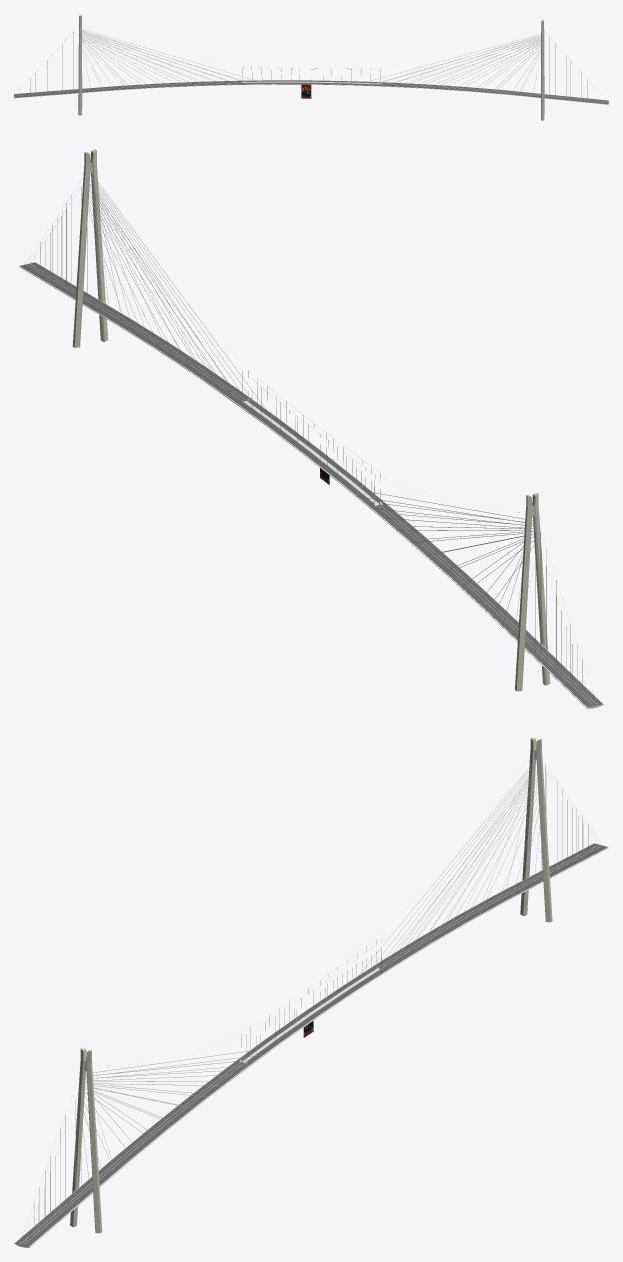
File: yavuz-selim-bridge.glb
3 renders of one model, top to bottom at view 1: azimuth 30°, elevation 25°; view 2: azimuth 150°, elevation 25°; view 3: azimuth 270°, elevation 25°, orthographic. The views are drawn at different scales.
Parts seen in each view (by area): view 1: mesh_1_ROOT__Component_127826_Layer0_217_218_206_ds, mesh_3_ROOT__Component_127826_Layer0_145_146_145_ds, mesh_4_ROOT__Component_127826_Layer0_241_241_241_ds, mesh_0_ROOT__Component_127826_Layer0_221_223_210_ds, mesh_5_ROOT__Component_127826_Layer0_245_245_245_ds; view 2: mesh_3_ROOT__Component_127826_Layer0_145_146_145_ds, mesh_1_ROOT__Component_127826_Layer0_217_218_206_ds, mesh_0_ROOT__Component_127826_Layer0_221_223_210_ds, mesh_4_ROOT__Component_127826_Layer0_241_241_241_ds, mesh_5_ROOT__Component_127826_Layer0_245_245_245_ds; view 3: mesh_3_ROOT__Component_127826_Layer0_145_146_145_ds, mesh_1_ROOT__Component_127826_Layer0_217_218_206_ds, mesh_0_ROOT__Component_127826_Layer0_221_223_210_ds, mesh_4_ROOT__Component_127826_Layer0_241_241_241_ds, mesh_5_ROOT__Component_127826_Layer0_245_245_245_ds.
Boxes of the visible parts, box(x1,y1,x2,y2) form: mesh_1_ROOT__Component_127826_Layer0_217_218_206_ds: box(14, 29, 608, 102); mesh_3_ROOT__Component_127826_Layer0_145_146_145_ds: box(14, 80, 608, 104); mesh_4_ROOT__Component_127826_Layer0_241_241_241_ds: box(14, 80, 608, 104); mesh_0_ROOT__Component_127826_Layer0_221_223_210_ds: box(78, 14, 544, 120); mesh_5_ROOT__Component_127826_Layer0_245_245_245_ds: box(15, 77, 608, 102); mesh_3_ROOT__Component_127826_Layer0_145_146_145_ds: box(20, 262, 602, 707); mesh_1_ROOT__Component_127826_Layer0_217_218_206_ds: box(25, 179, 597, 705); mesh_0_ROOT__Component_127826_Layer0_221_223_210_ds: box(72, 149, 550, 691); mesh_4_ROOT__Component_127826_Layer0_241_241_241_ds: box(19, 262, 603, 708); mesh_5_ROOT__Component_127826_Layer0_245_245_245_ds: box(26, 263, 597, 705); mesh_3_ROOT__Component_127826_Layer0_145_146_145_ds: box(15, 843, 607, 1246); mesh_1_ROOT__Component_127826_Layer0_217_218_206_ds: box(19, 764, 603, 1245); mesh_0_ROOT__Component_127826_Layer0_221_223_210_ds: box(70, 738, 552, 1233); mesh_4_ROOT__Component_127826_Layer0_241_241_241_ds: box(14, 843, 608, 1247); mesh_5_ROOT__Component_127826_Layer0_245_245_245_ds: box(20, 844, 601, 1245).
Size of the model in its own units: 1575511 by 326926 by 981006.
11 materials, 10 textured.
